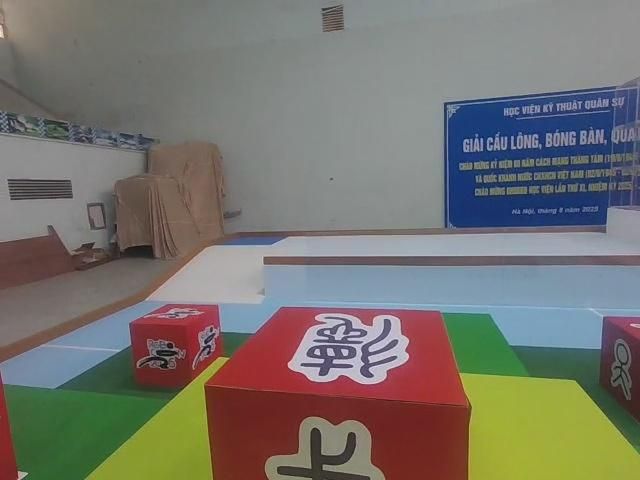R1: (123, 299, 225, 394)
R2 Fake: (201, 304, 478, 480)
R2 Real: (596, 312, 640, 424)
